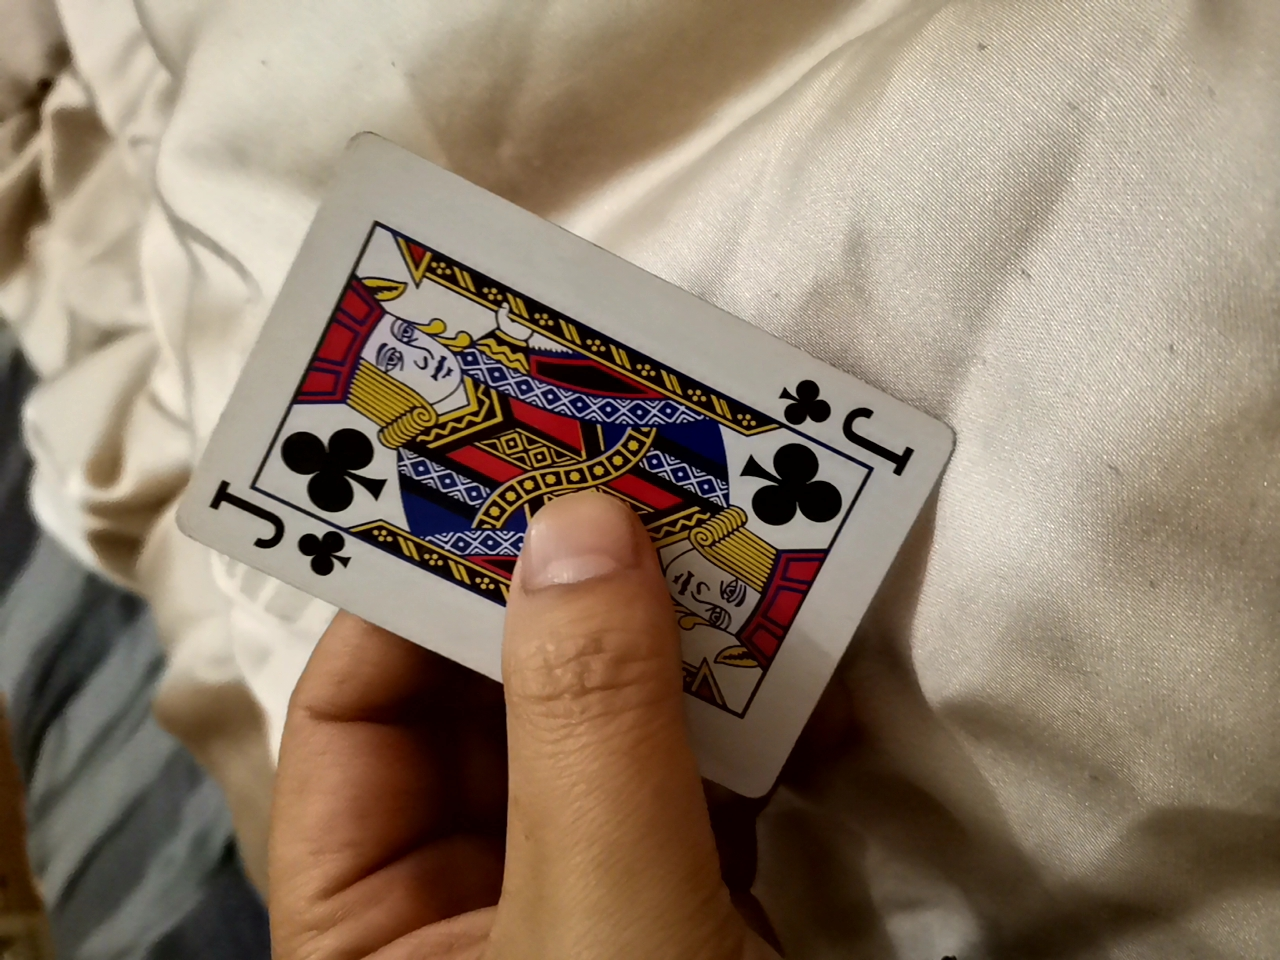mh j: (197, 131, 974, 781)
